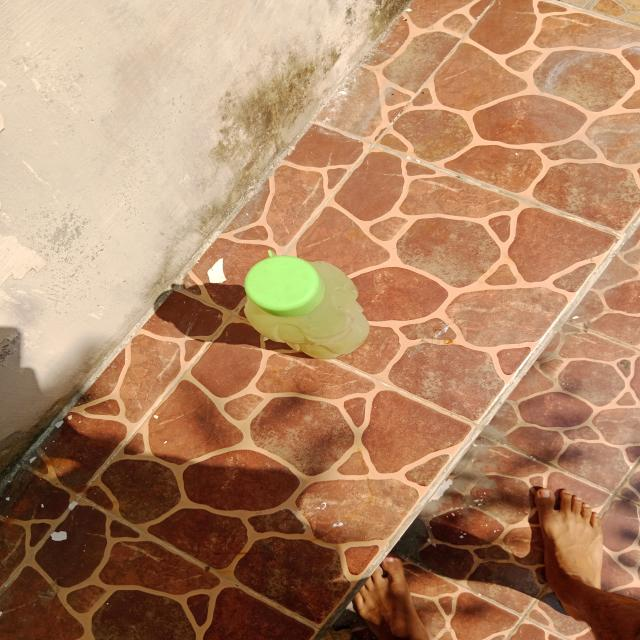botol_minum: (240, 246, 378, 361)
